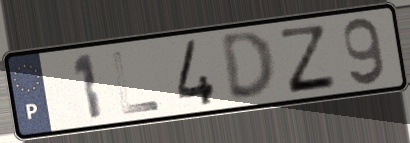1: (71, 51, 107, 120)
4: (175, 37, 217, 108)
9: (340, 15, 388, 89)
D: (217, 28, 279, 102)
L: (110, 48, 163, 117)
Z: (278, 24, 339, 96)
